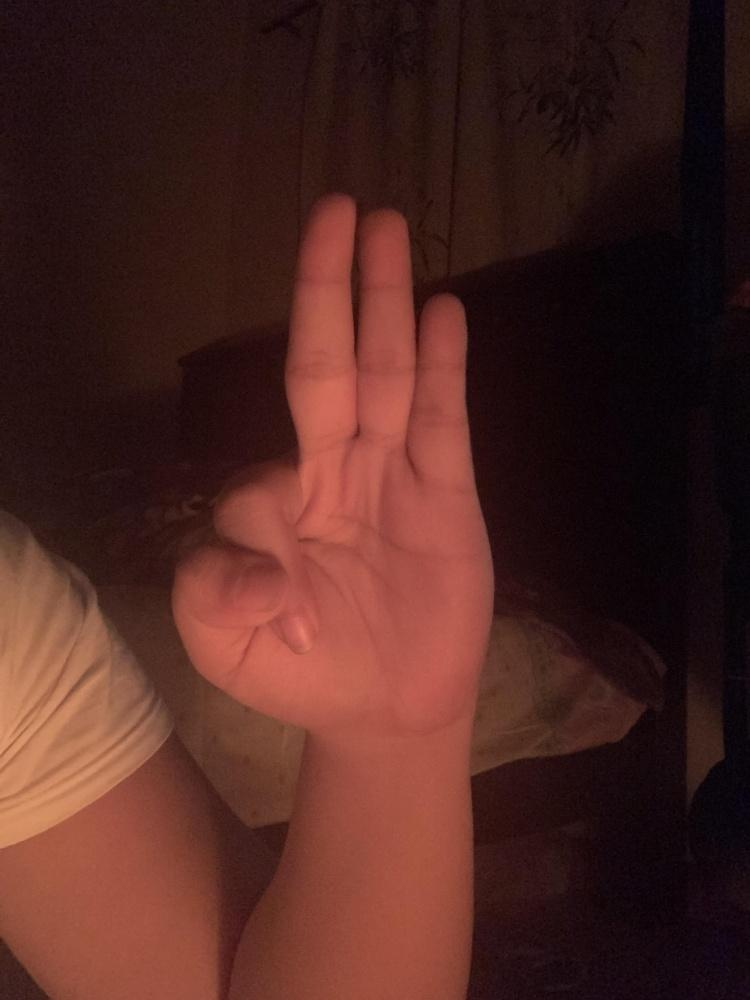f: (166, 190, 499, 740)
